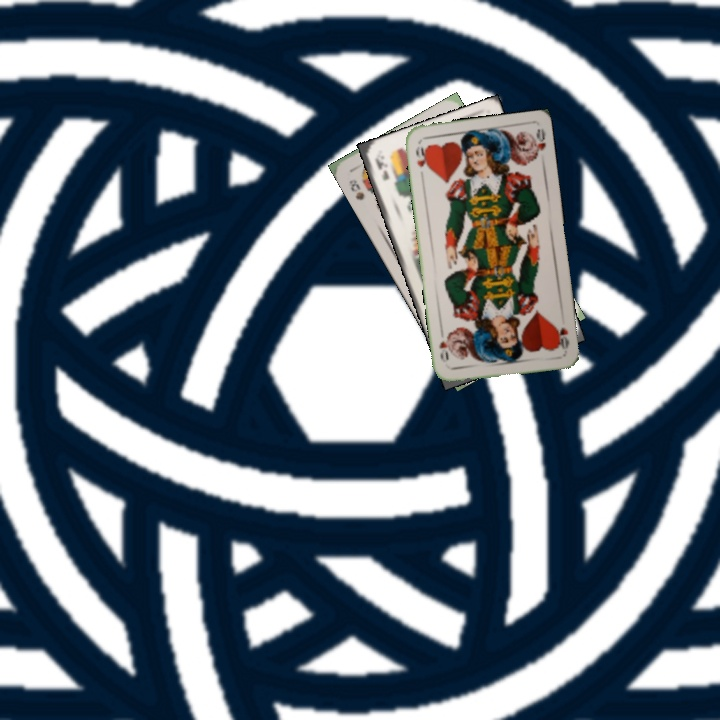EK: (371, 154, 392, 183)
HO: (552, 321, 572, 352), (411, 142, 431, 172)
S8: (345, 175, 367, 203)
